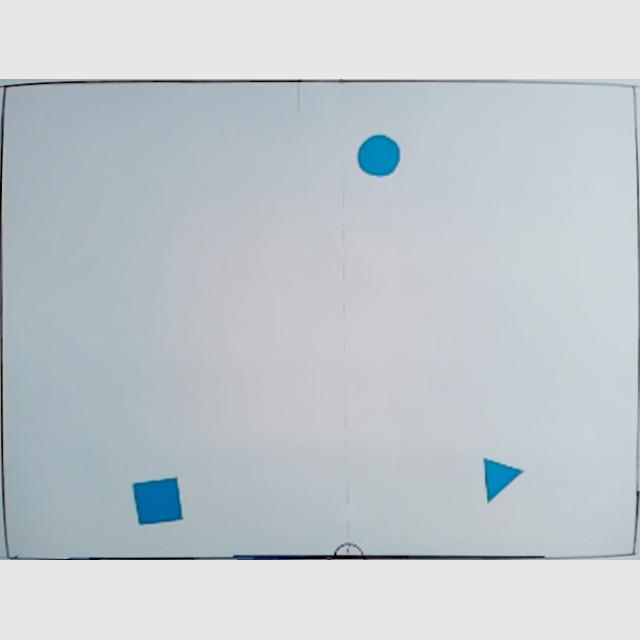blueCircle: (358, 134, 402, 180)
blueSquare: (132, 478, 182, 528)
blueTriangle: (482, 461, 526, 505)
